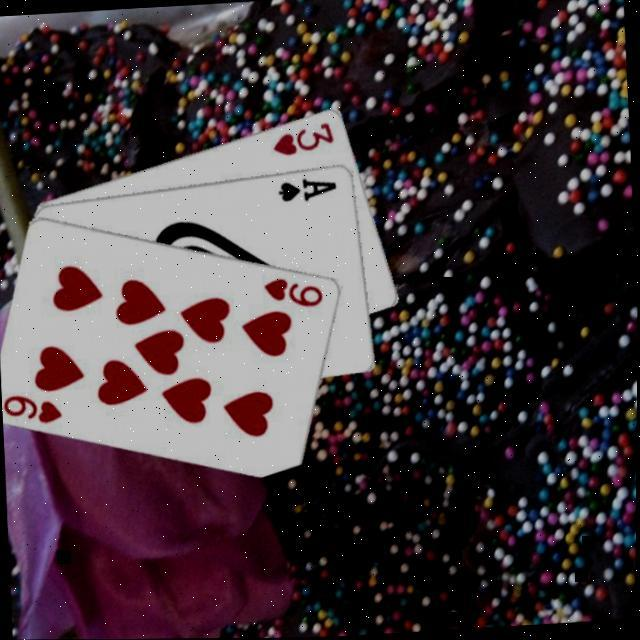3H: (266, 120, 336, 161)
9H: (260, 275, 326, 314), (1, 392, 65, 431)
AS: (274, 176, 339, 207)
